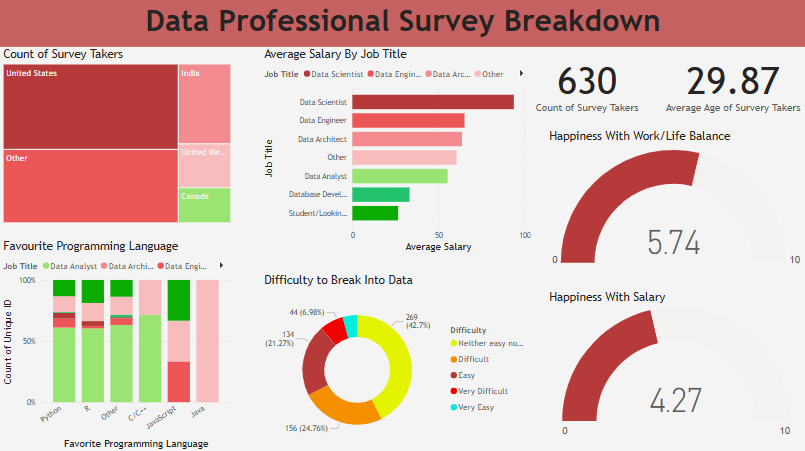

Layout of this report page (visuals, bound fields, positions):
{"tool":"powerbi","page":{"name":"Page 1","canvas":[1280,720],"ordinal":0},"visuals":[{"type":"textbox","box":[0,0,1280,75.6],"z":0},{"type":"card","fields":{"Values":["Data Professional Survey.Email"]},"box":[816.4,75.6,231.8,117.6],"z":1000},{"type":"card","fields":{"Values":["Data Professional Survey.Q10 - Current Age"]},"box":[1048.2,75.6,231.8,117.6],"z":2000},{"type":"barChart","title":"Average Salary By Job Title","fields":{"Category":["Data Professional Survey.Q1 - Which Title Best Fits your Current Role?.1"],"Y":["Data Professional Survey.Average Salary"],"Series":["Data Professional Survey.Q1 - Which Title Best Fits your Current Role?.1"]},"box":[414.9,75.6,433.4,330.9],"z":3000},{"type":"hundredPercentStackedColumnChart","title":"Favourite Programming Language","fields":{"Category":["Data Professional Survey.Q5 - Favorite Programming Language.1"],"Y":["Data Professional Survey.Unique ID"],"Series":["Data Professional Survey.Q1 - Which Title Best Fits your Current Role?.1"]},"box":[0,381.3,371.2,339.3],"z":4000},{"type":"treemap","title":"Count of Survey Takers","fields":{"Group":["Data Professional Survey.Q11 - Which Country do you live in?.1"],"Values":["Data Professional Survey.Q11 - Which Country do you live in?.1"]},"box":[0,75.6,371.2,283.9],"z":5000},{"type":"gauge","title":"Happiness With Work/Life  Balance","fields":{"MinValue":["Sum(Data Professional Survey.Q6 - How Happy are you in your Current Position with the following? (Work/Life Balance))1"],"MaxValue":["Sum(Data Professional Survey.Q6 - How Happy are you in your Current Position with the following? (Work/Life Balance))2"],"Y":["Data Professional Survey.Q6 - How Happy are you in your Current Position with the following? (Work/Life Balance)"]},"box":[866.8,206.6,413.2,228.5],"z":6000},{"type":"gauge","title":"Happiness With Salary","fields":{"Y":["Data Professional Survey.Q6 - How Happy are you in your Current Position with the following? (Salary)"],"MinValue":["Sum(Data Professional Survey.Q6 - How Happy are you in your Current Position with the following? (Salary))1"],"MaxValue":["Sum(Data Professional Survey.Q6 - How Happy are you in your Current Position with the following? (Salary))2"]},"box":[866.8,461.9,413.2,241.9],"z":7000},{"type":"donutChart","title":"Difficulty to Break Into Data","fields":{"Series":["Data Professional Survey.Q7 - How difficult was it for you to break into Data?"],"Y":["Data Professional Survey.Q7 - How difficult was it for you to break into Data?"],"Category":["Data Professional Survey.Q7 - How difficult was it for you to break into Data?"]},"box":[414.9,435.1,433.4,285.6],"z":8000}]}

Visuals, with their boxes in screenshot pixels (x1, y1, x2, y2), scaled from the page's 1280x720 canvas onto the 805x451 screenshot:
textbox: [x1=0, y1=0, x2=804, y2=47]
card - Data Professional Survey.Email: [x1=513, y1=47, x2=659, y2=121]
card - Data Professional Survey.Q10 - Current Age: [x1=659, y1=47, x2=804, y2=121]
"Average Salary By Job Title" barChart: [x1=261, y1=47, x2=534, y2=255]
"Favourite Programming Language" hundredPercentStackedColumnChart: [x1=0, y1=239, x2=233, y2=450]
"Count of Survey Takers" treemap: [x1=0, y1=47, x2=233, y2=225]
"Happiness With Work/Life  Balance" gauge: [x1=545, y1=129, x2=804, y2=273]
"Happiness With Salary" gauge: [x1=545, y1=289, x2=804, y2=441]
"Difficulty to Break Into Data" donutChart: [x1=261, y1=273, x2=534, y2=450]
